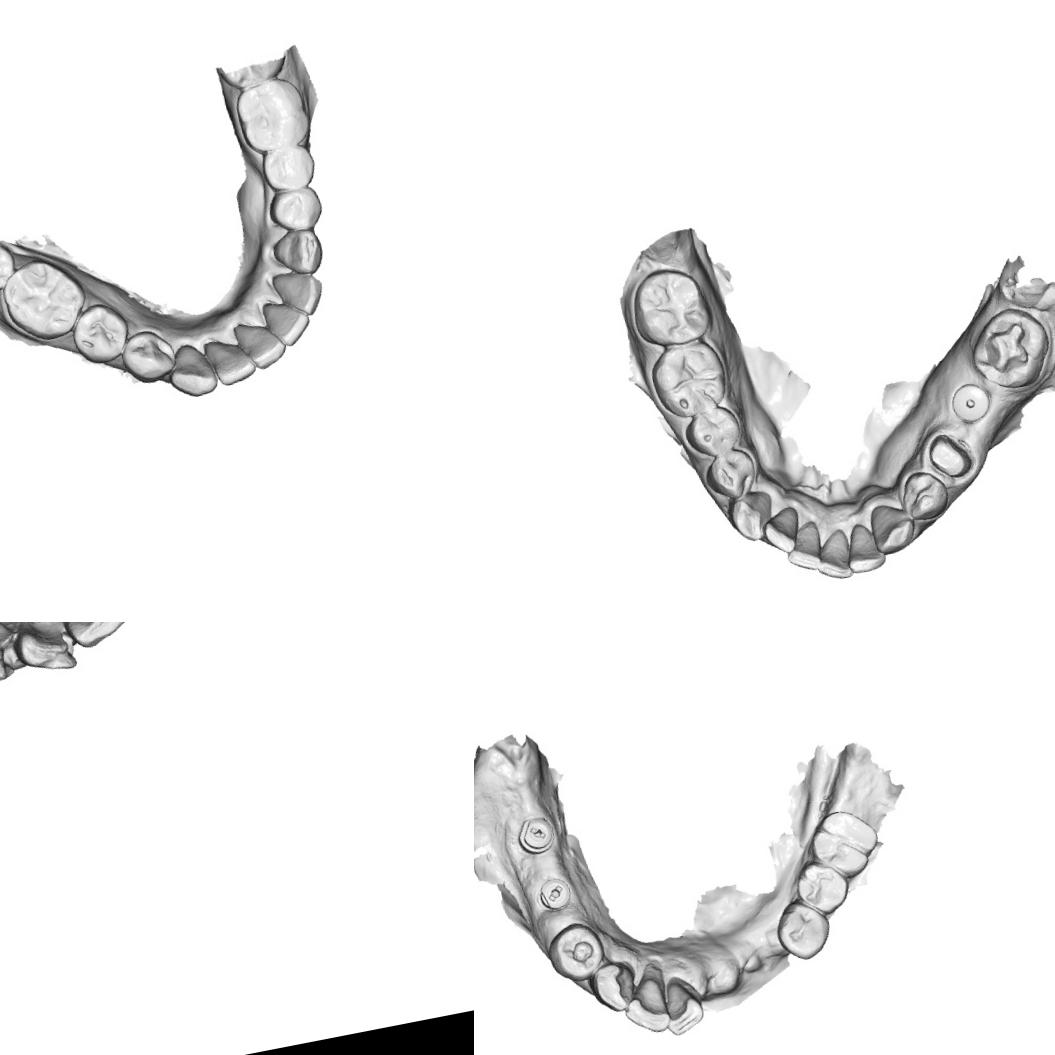canine: (162, 339, 220, 402), (584, 957, 643, 1017), (721, 487, 780, 546), (864, 496, 920, 558), (269, 224, 327, 280)
crown: (922, 427, 976, 485)
implant: (945, 377, 994, 427)
implant_minus: (512, 812, 558, 858), (536, 874, 574, 913)
incisor: (614, 960, 675, 1038), (5, 622, 80, 682), (230, 313, 289, 374), (656, 972, 708, 1040), (268, 264, 327, 321), (202, 332, 258, 389), (259, 294, 314, 350), (53, 622, 148, 653), (780, 518, 828, 579), (840, 518, 888, 576), (758, 502, 806, 559), (811, 524, 856, 584), (0, 622, 31, 690)
inlay: (970, 318, 1036, 380)
molar: (0, 251, 92, 346), (624, 260, 716, 352), (646, 336, 734, 422), (229, 72, 315, 156), (803, 803, 884, 884)
premolar: (541, 916, 610, 987), (66, 297, 134, 368), (770, 894, 836, 966), (790, 854, 854, 919), (116, 324, 179, 387), (678, 402, 746, 460), (698, 444, 762, 503), (895, 466, 953, 524), (264, 183, 326, 235), (258, 142, 318, 194)
